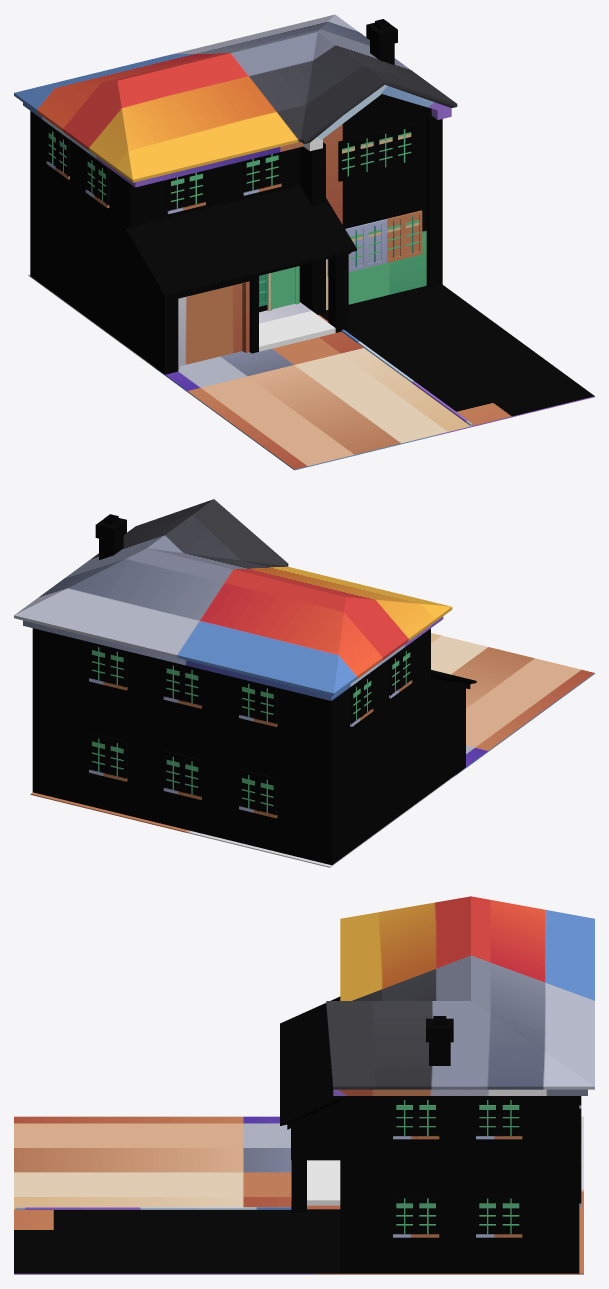
Rendered from house_with_driveway.glb.
The picture shows the model from 3 angles, top to bottom: view 1: azimuth 30°, elevation 25°; view 2: azimuth 150°, elevation 25°; view 3: azimuth 270°, elevation 25°; orthographic projection. The views are drawn at different scales.
Parts seen in each view (by area): view 1: HouseWithDriveway_Mesh; view 2: HouseWithDriveway_Mesh; view 3: HouseWithDriveway_Mesh.
Boxes of the visible parts, bbox=[...] form: HouseWithDriveway_Mesh: bbox=[14, 14, 594, 470]; HouseWithDriveway_Mesh: bbox=[14, 499, 594, 867]; HouseWithDriveway_Mesh: bbox=[14, 896, 594, 1274].
Size of the model in its own units: 23.31 by 16.15 by 34.1.
Materials: 1 (1 with a texture image).
